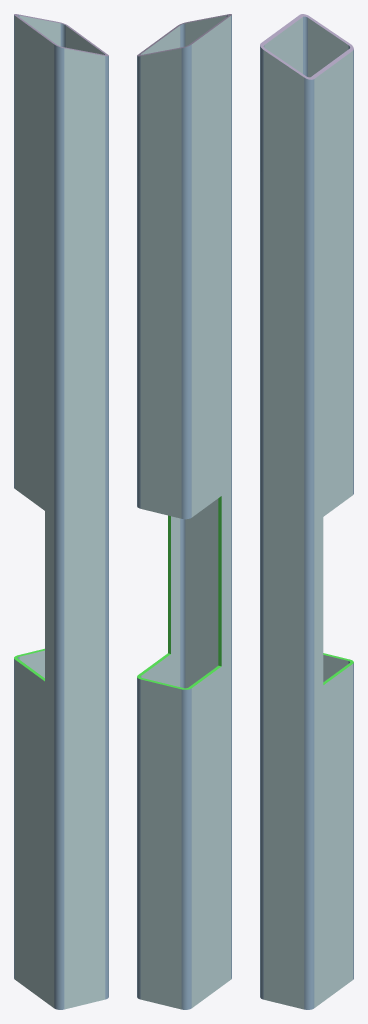
Rendered from RIM0151-WTT10073-028_0-1-1-1_1_colored.glb.
3 renders of one model, left to right at view 1: azimuth 30°, elevation 25°; view 2: azimuth 150°, elevation 25°; view 3: azimuth 330°, elevation 25°, orthographic.
Parts seen in each view (by area): view 1: Featured solid; view 2: Featured solid; view 3: Featured solid.
Boxes of the visible parts, <box> form: Featured solid: <box>14,14,108,1009</box>; Featured solid: <box>137,14,231,1009</box>; Featured solid: <box>260,14,353,1009</box>.
Bounding box in the file's own units: 50.8 × 870 × 76.2.
